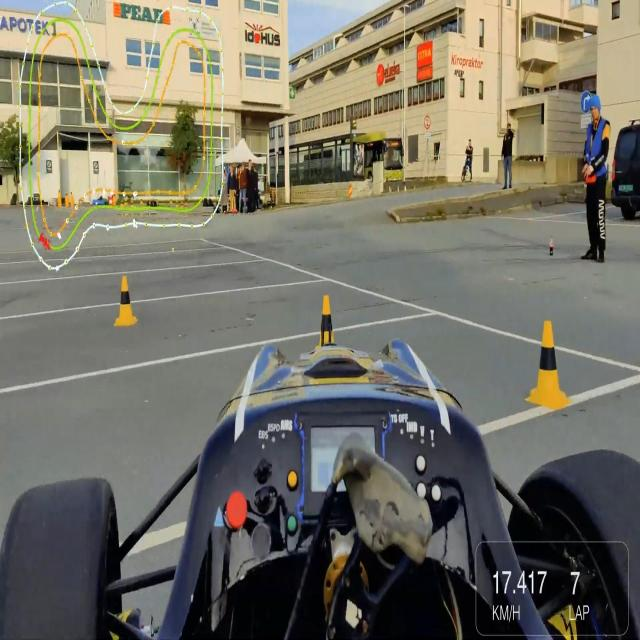yellow_cone: (519, 319, 573, 414), (308, 290, 339, 354), (115, 272, 137, 333)
